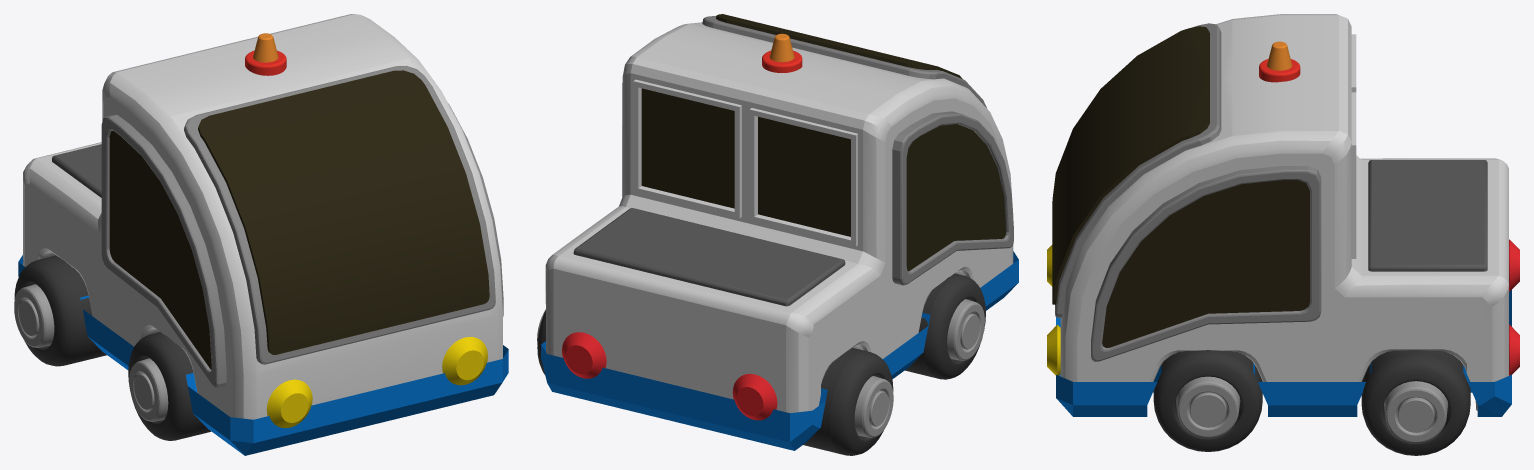
File: train.fbx
3 renders of one model, left to right at view 1: azimuth 30°, elevation 25°; view 2: azimuth 150°, elevation 25°; view 3: azimuth 270°, elevation 25°, orthographic. The views are drawn at different scales.
Parts seen in each view (by area): view 1: Cube.034, Cube.047, Cylinder.022, Cylinder.021, Cylinder.023, Cube.048, Cylinder.025; view 2: Cube.034, Cube.048, Cube.047, Cylinder.022, Cylinder.021, Cylinder.024, Cylinder.025; view 3: Cube.034, Cube.048, Cylinder.022, Cylinder.021, Cube.047, Cylinder.025, Cylinder.024, Cylinder.023.
Part boxes in pixels (x1,y1,x2,y2): Cube.034: (23,14,503,419); Cube.047: (18,255,508,455); Cylinder.022: (14,255,106,366); Cylinder.021: (128,332,211,440); Cylinder.023: (266,337,487,427); Cube.048: (52,144,101,197); Cylinder.025: (245,33,286,75); Cube.034: (545,14,1013,412); Cube.048: (573,208,845,306); Cube.047: (541,251,1018,450); Cylinder.022: (537,309,893,455); Cylinder.021: (905,273,985,379); Cylinder.024: (562,332,777,420); Cylinder.025: (762,33,802,72); Cube.034: (1052,14,1508,410); Cube.048: (1368,160,1487,271); Cylinder.022: (1361,349,1470,455); Cylinder.021: (1153,350,1262,451); Cube.047: (1056,290,1511,416); Cylinder.025: (1259,41,1300,82); Cylinder.024: (1509,239,1519,375); Cylinder.023: (1047,245,1060,375).
Bounding box in the file's own units: 253 × 243 × 307.
